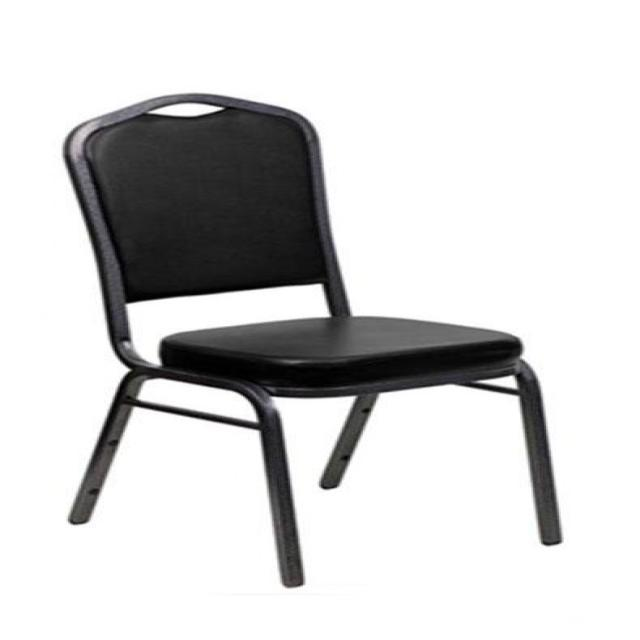chair: (62, 88, 570, 590)
